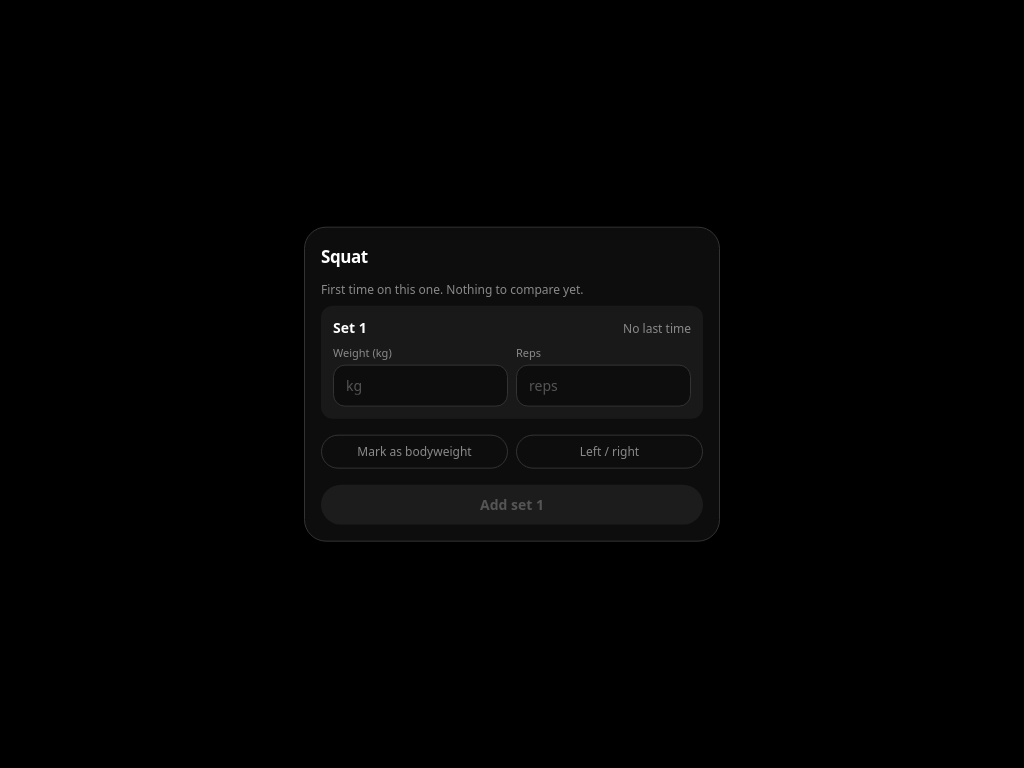
Test: ExerciseSheet, logging › keeps the weight and clears the reps after logging, ready for the next set
In the number field labelled "Weight (kg)": [420, 385] box [333,364,508,406], type "100"
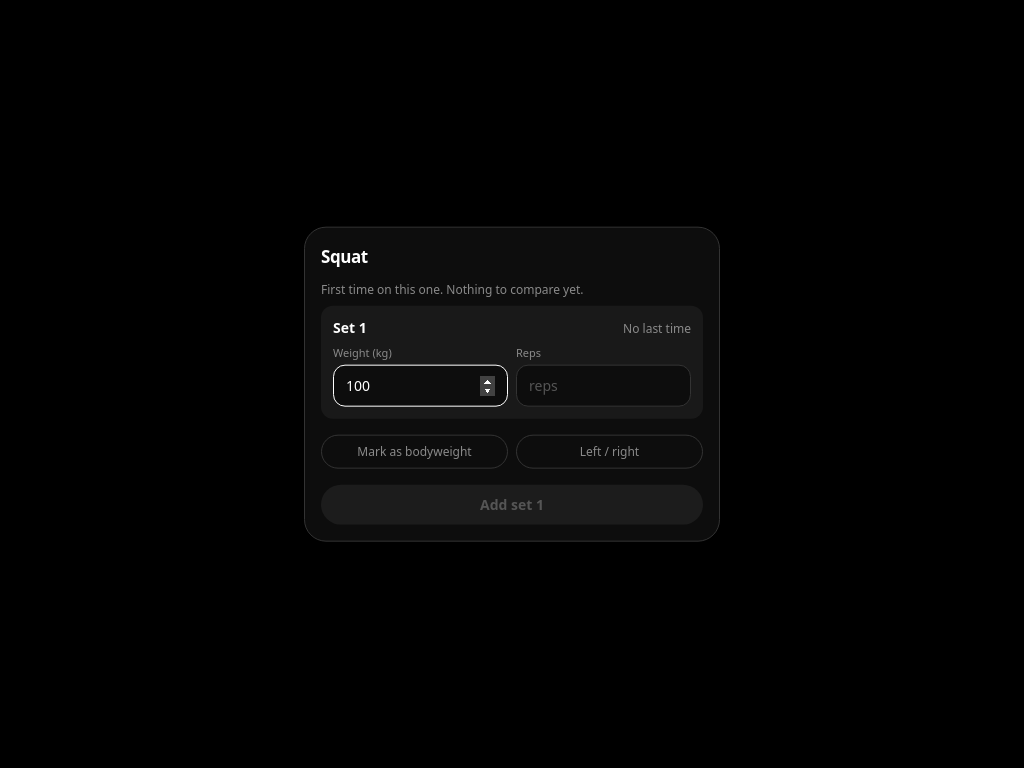
In the number field labelled "Reps": [604, 385] box [516,364,691,406], type "5"
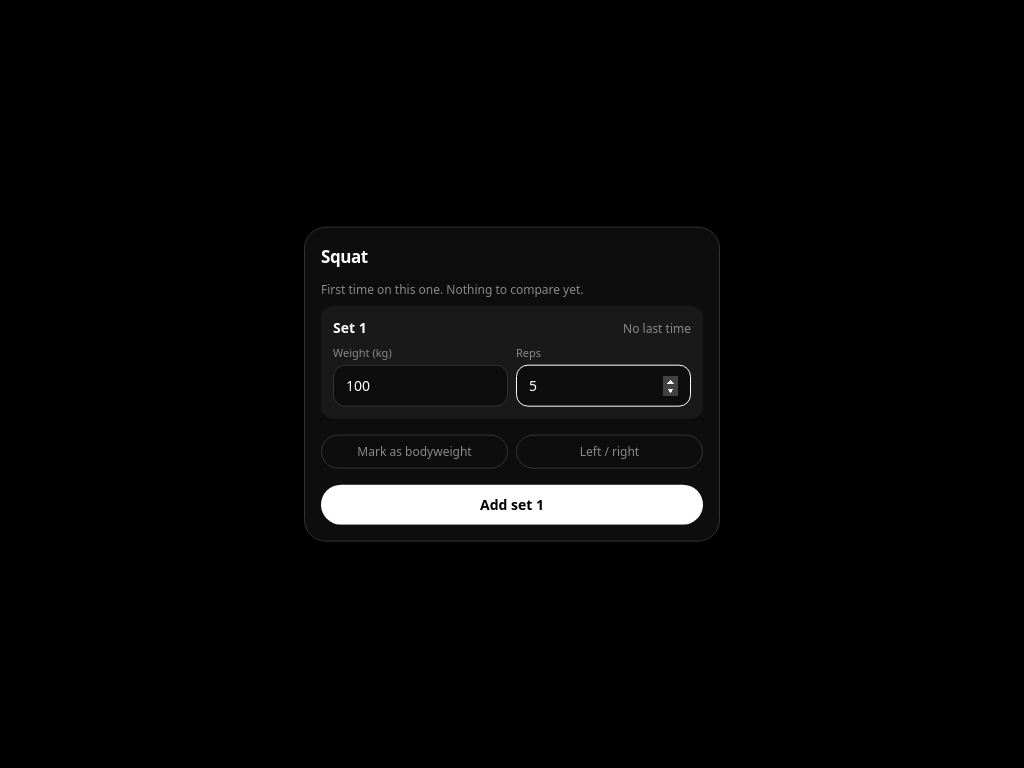
Click the button "Add set 1": [512, 504] box [321,484,703,524]
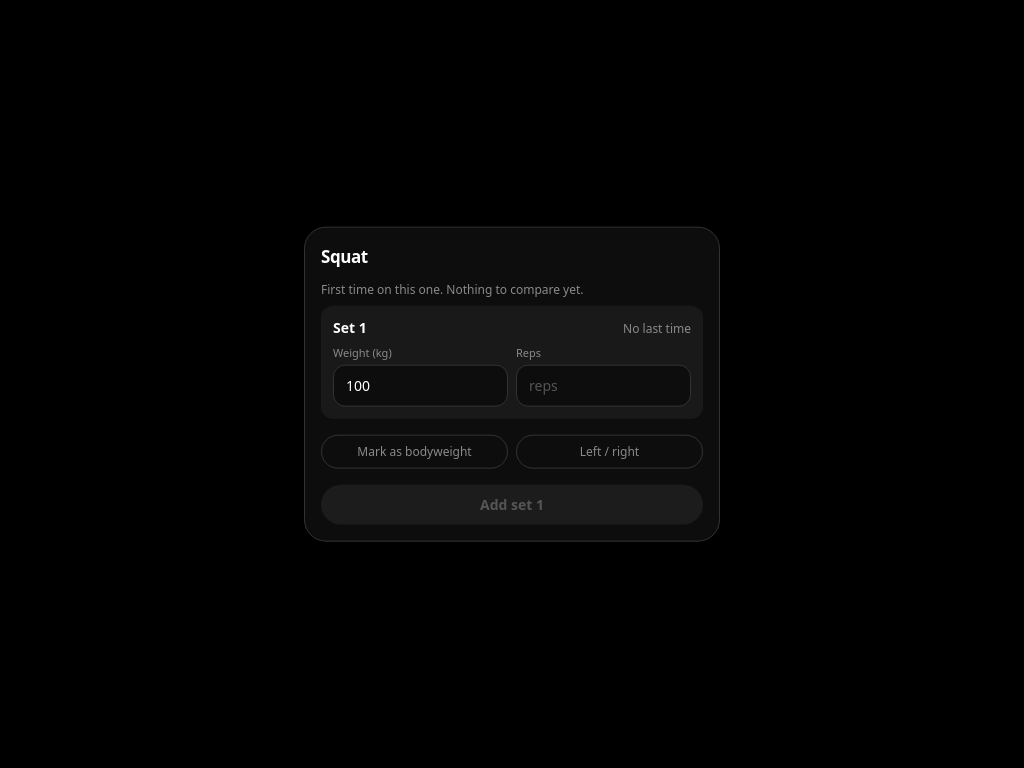
Expected: the number field labelled "Reps" is not empty, [516,364,691,406]
Expected: the button "Add set 1" is disabled, [321,484,703,524]
